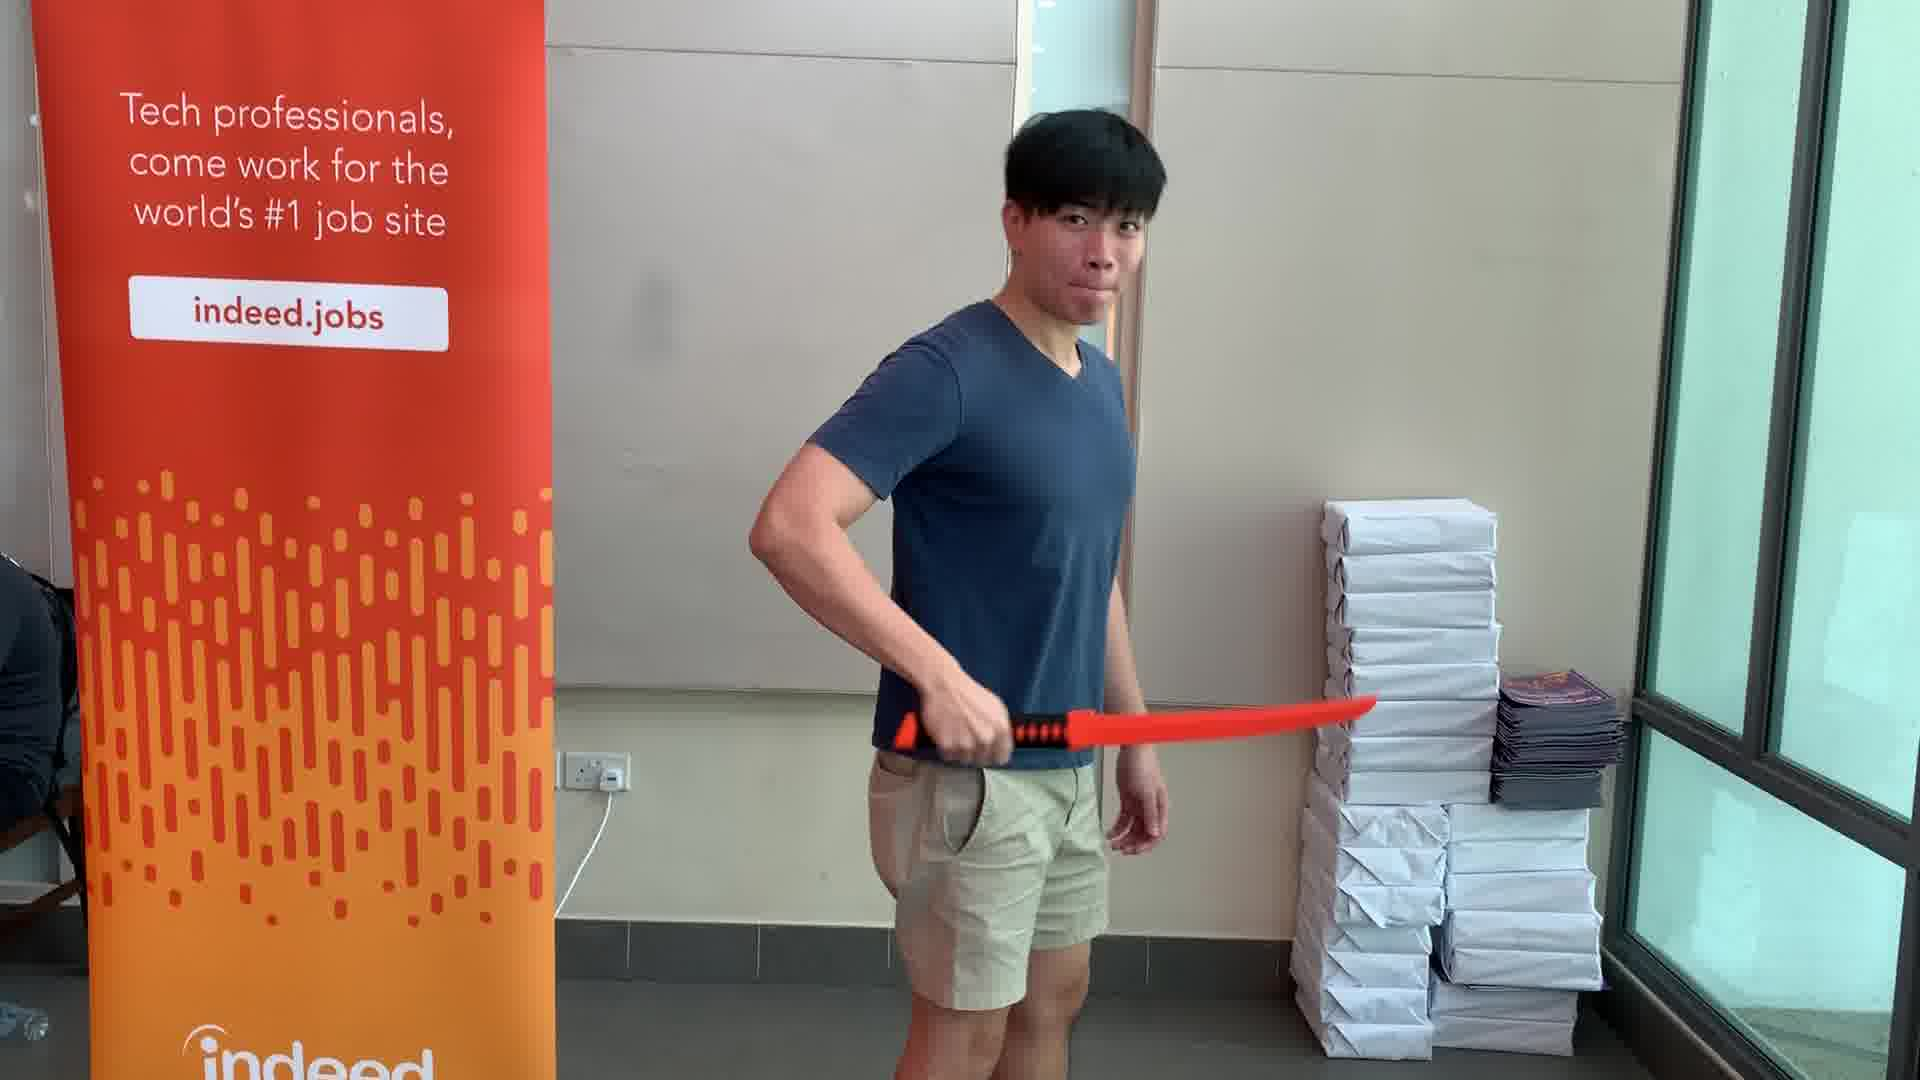knife: (881, 687, 1389, 766)
